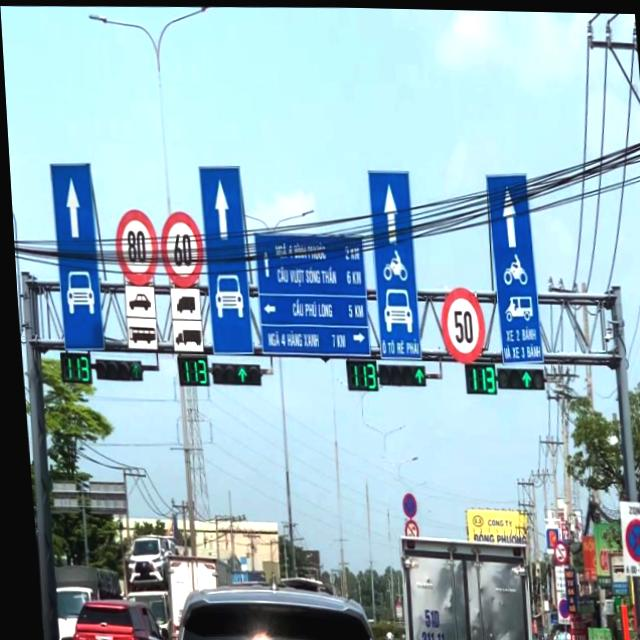Cam dung xe va do xe: (615, 513, 640, 562), (394, 489, 412, 517)
Toc do toi da cho phep: (435, 283, 483, 361), (154, 209, 202, 285), (110, 208, 158, 283)
